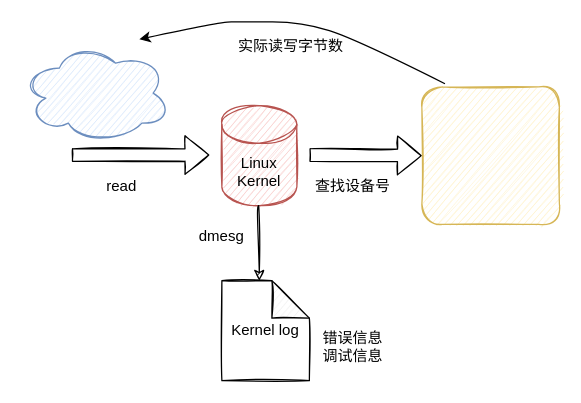
Image size: 581x403. Some labels were removed from this diagram. Here are the shapes that lost their labels. From the top down, the box of each, then its label:
(21, 42, 172, 143): 用户层(test app)
(421, 86, 559, 224): Driver
